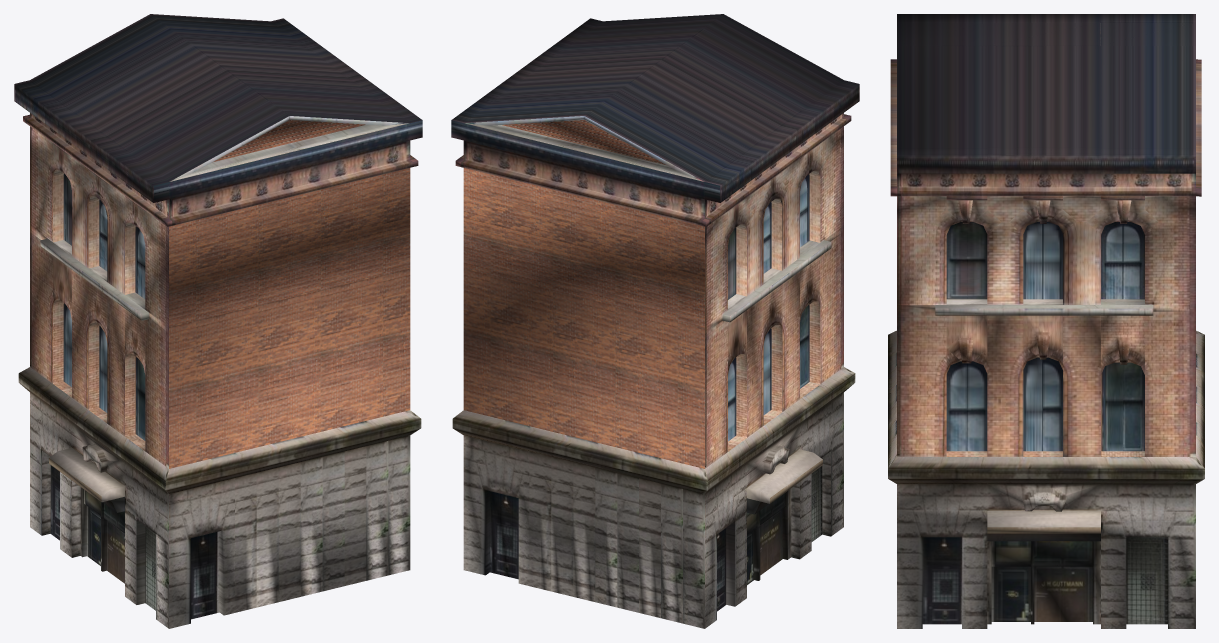
File: old_building (1).glb
3 views of the same model, side by side, from view 1: azimuth 30°, elevation 25°; view 2: azimuth 150°, elevation 25°; view 3: azimuth 270°, elevation 25° (orthographic). The views are drawn at different scales.
Parts seen in each view (by area): view 1: Cube_1; view 2: Cube_1; view 3: Cube_1.
Part boxes in pixels (bbox=[...]): Cube_1: bbox=[14, 14, 422, 628]; Cube_1: bbox=[451, 14, 859, 628]; Cube_1: bbox=[888, 14, 1204, 628].
Bounding box in the file's own units: 8.44 × 13.58 × 7.5.
Materials: 1 (1 with a texture image).
